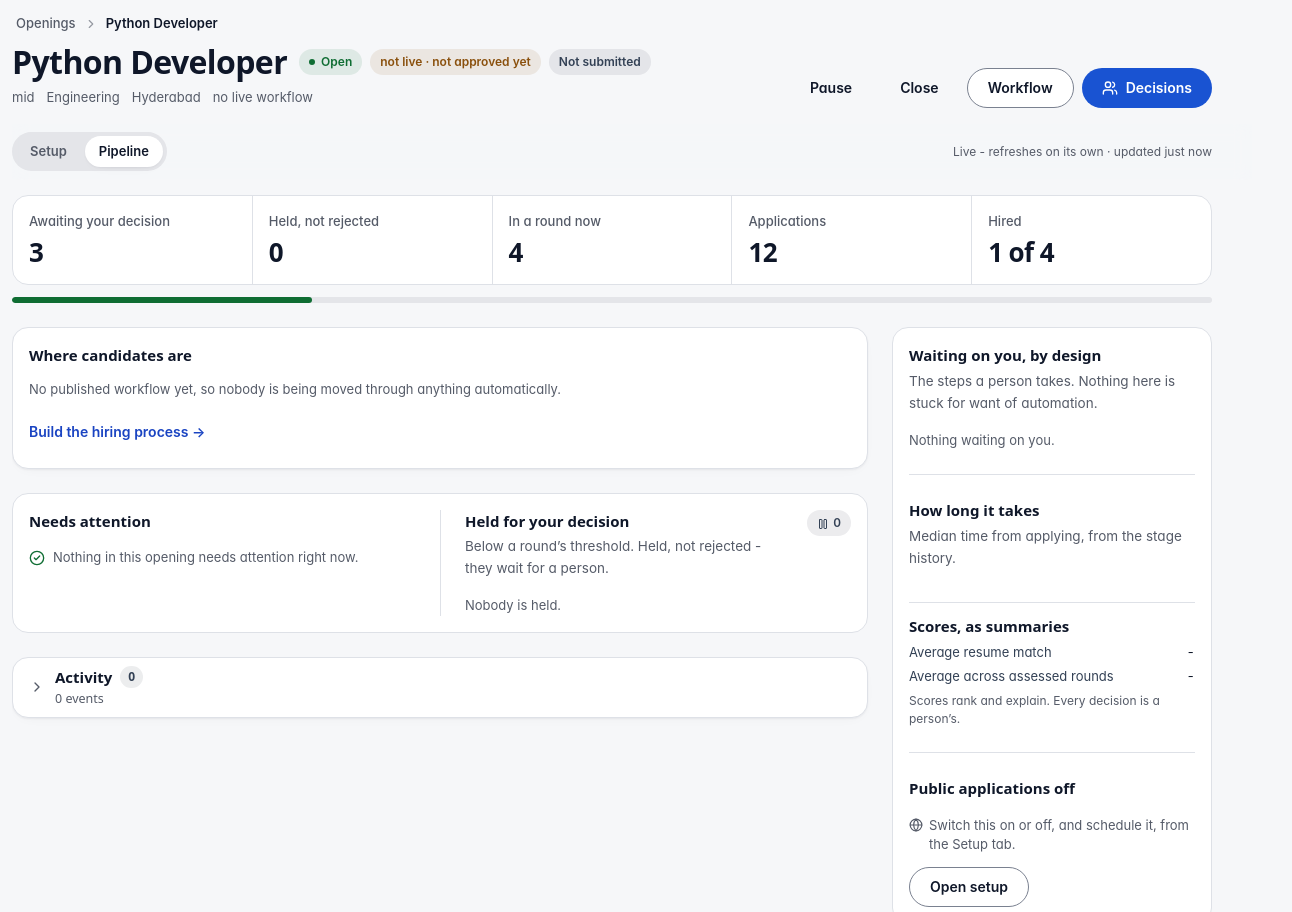
Test: which tab opens › switching tabs changes what is shown
Click the tab "Setup". click: (48, 152)
box: [16,136,81,167]
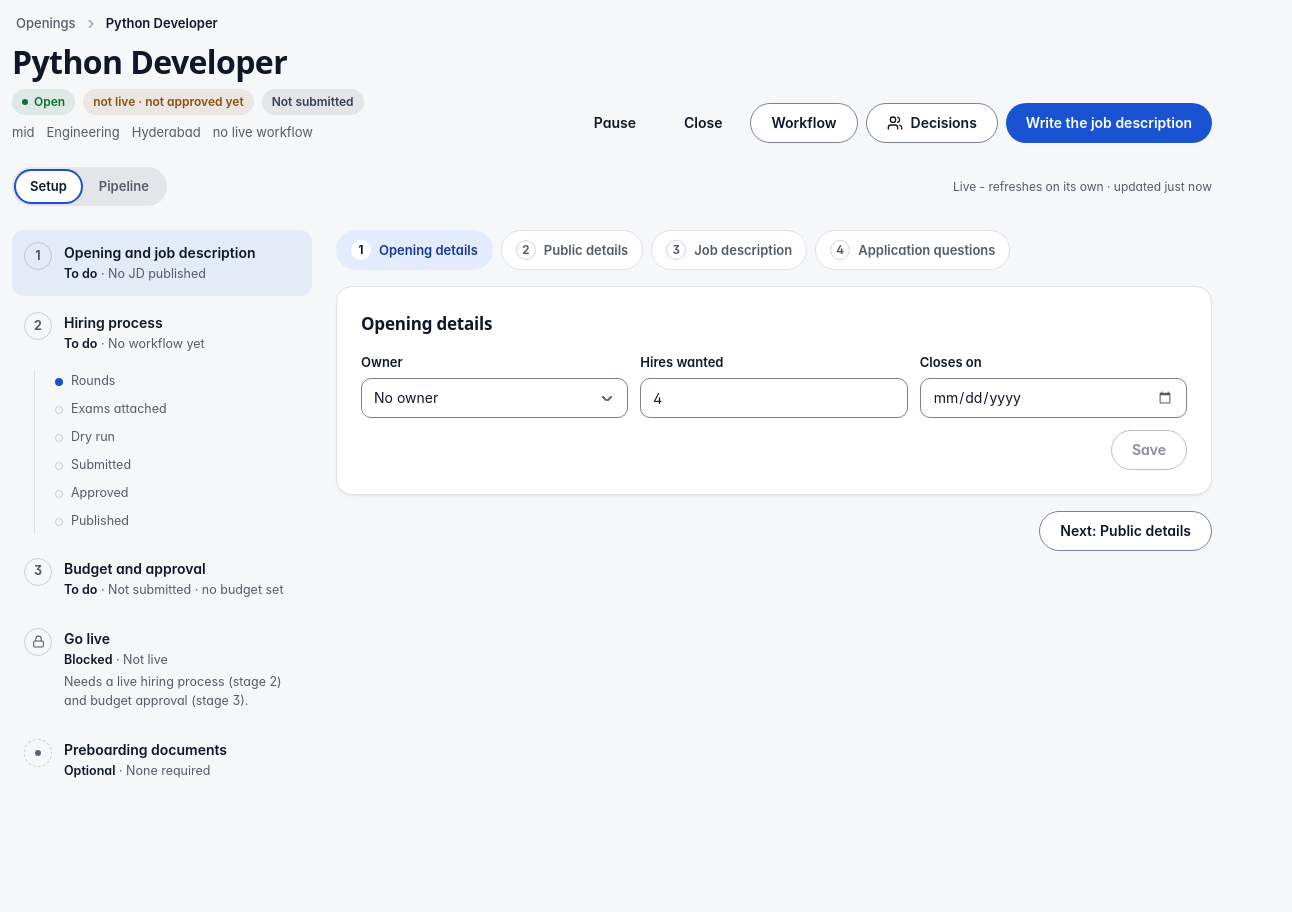
Check: the navigation bar named "Opening setup" is shown, box [12,230,312,793]
Check: the element with test id "funnel" is gone
Click the tab "Pipeline". click: (124, 187)
box: [85,171,163,202]
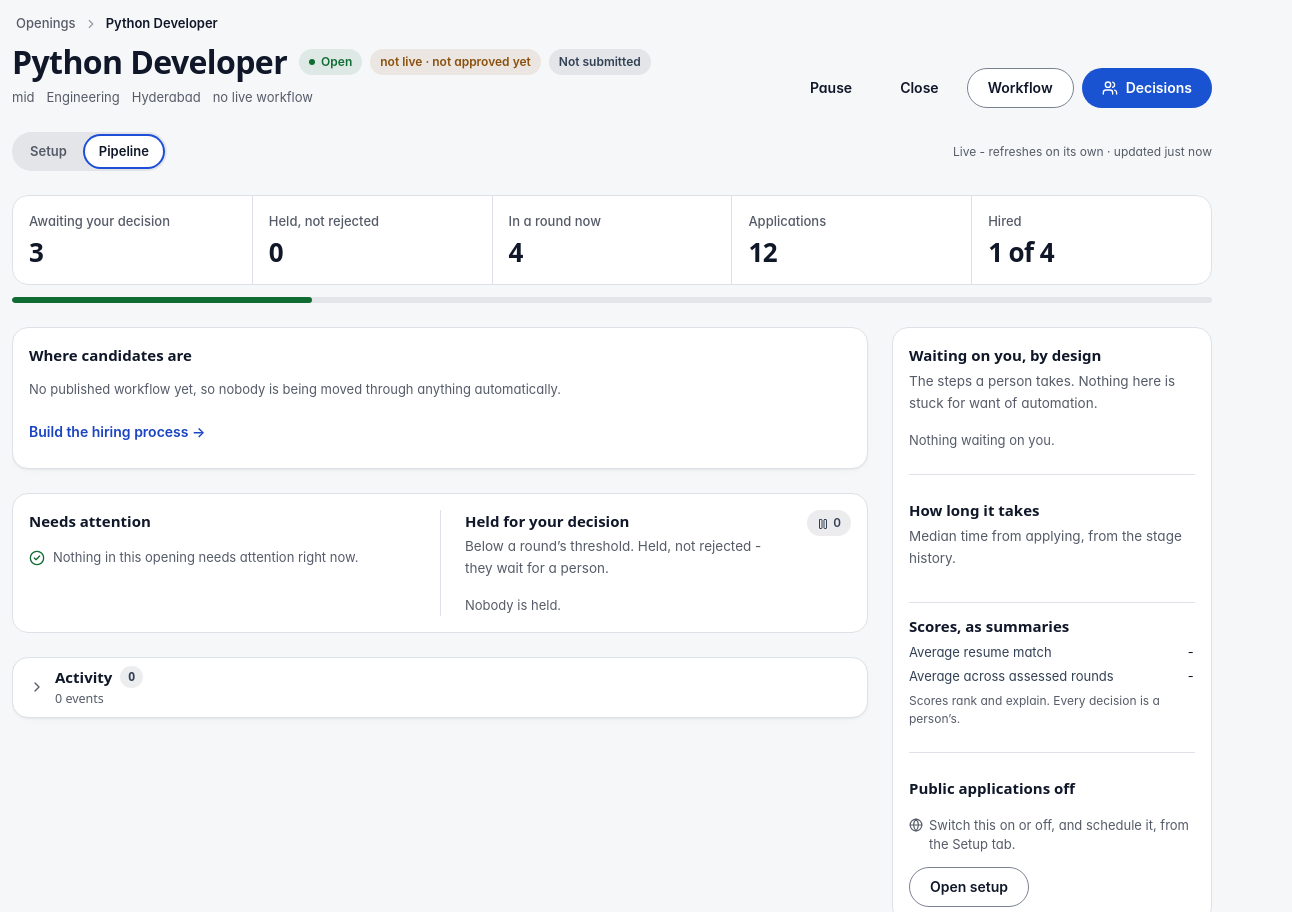
Check: the element with test id "funnel" is shown, box [12,327,868,469]
